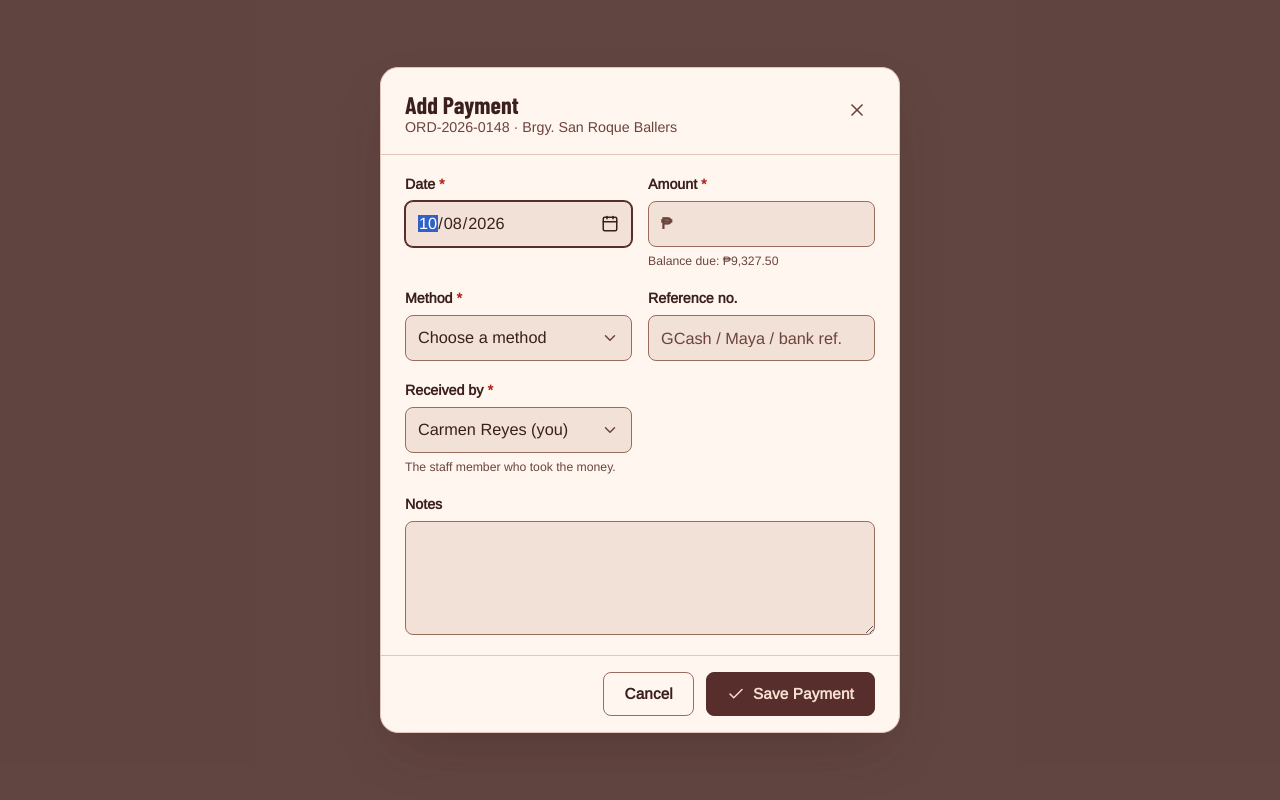
add mode checks before any request (OR-3) › shows the server wording under an empty amount
The width and height of the screenshot is (1280, 800).
Select "GCash" in the dropdown labelled "Method *" at point(518, 338), box [406, 316, 631, 360]
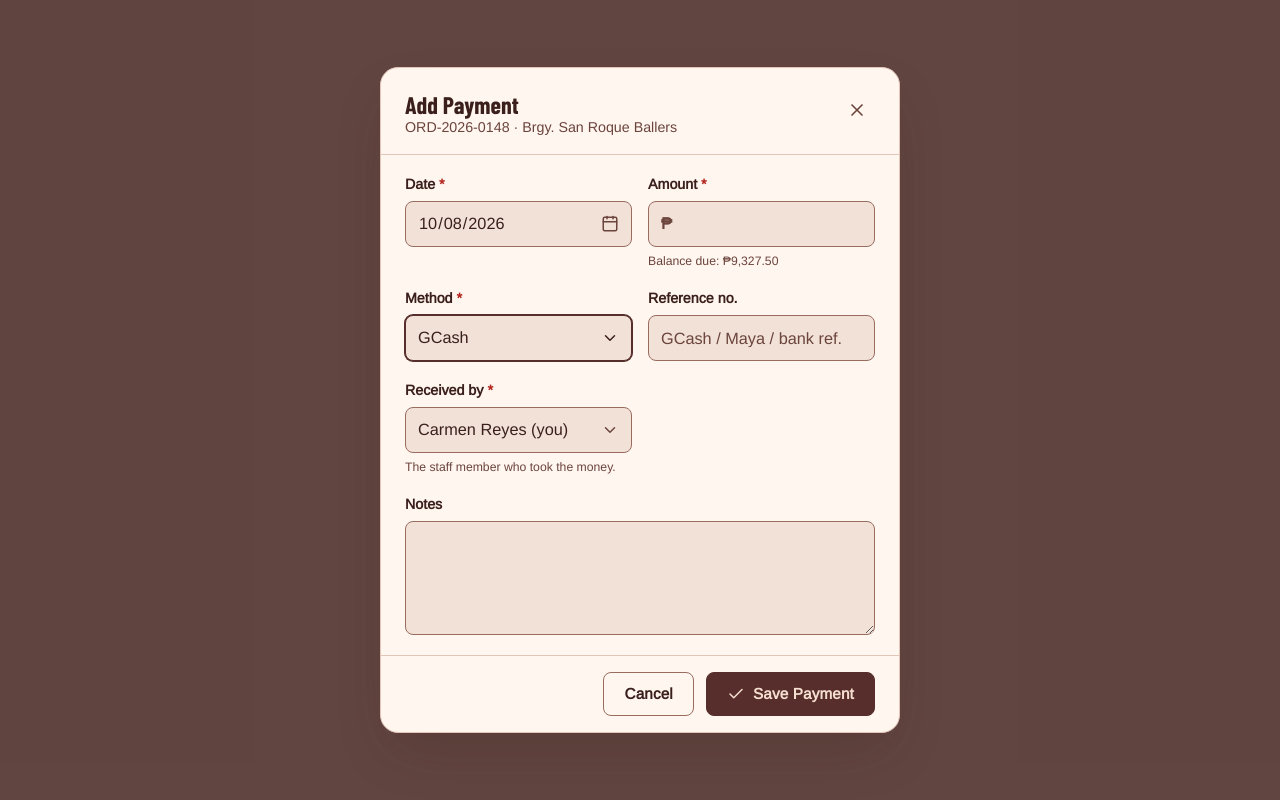
Click the button "Save Payment".
click(790, 694)  # box [706, 672, 875, 716]
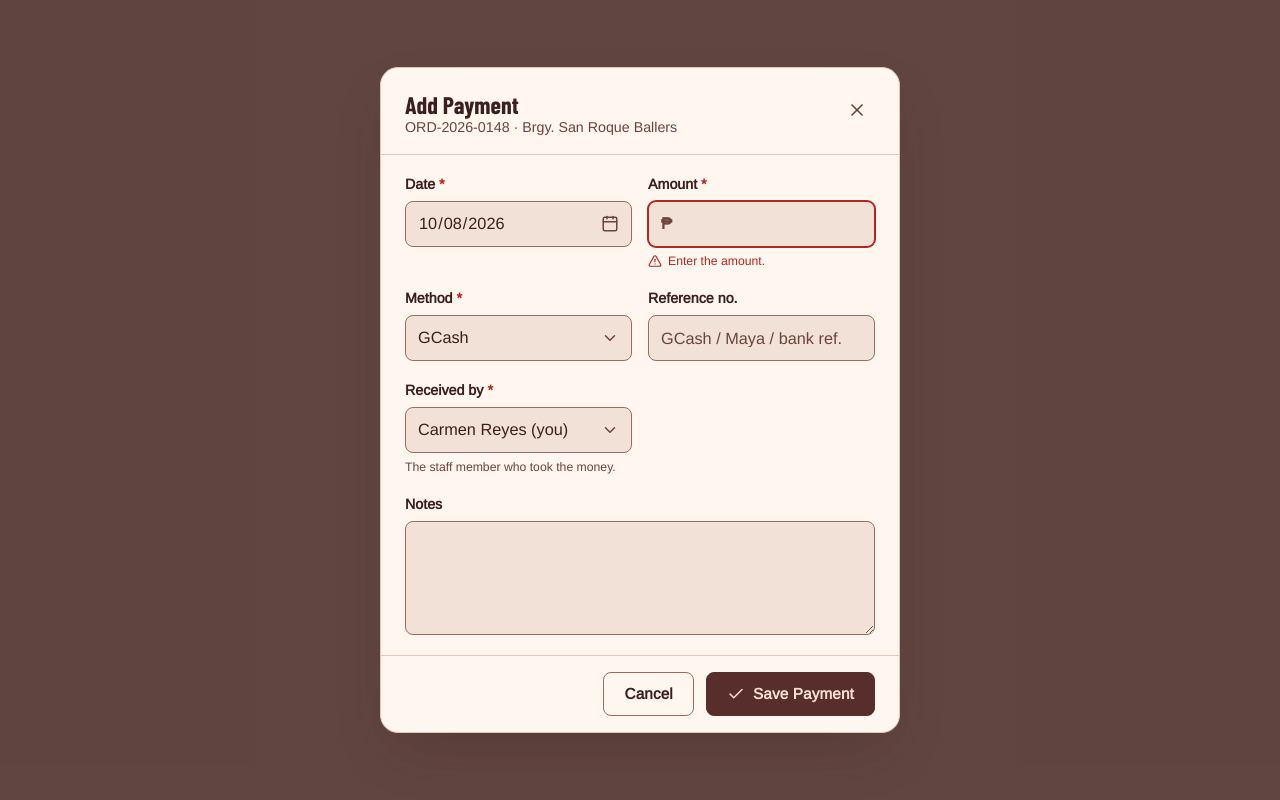
Expected: the text "Enter the amount." is shown, [648, 254, 765, 268]
